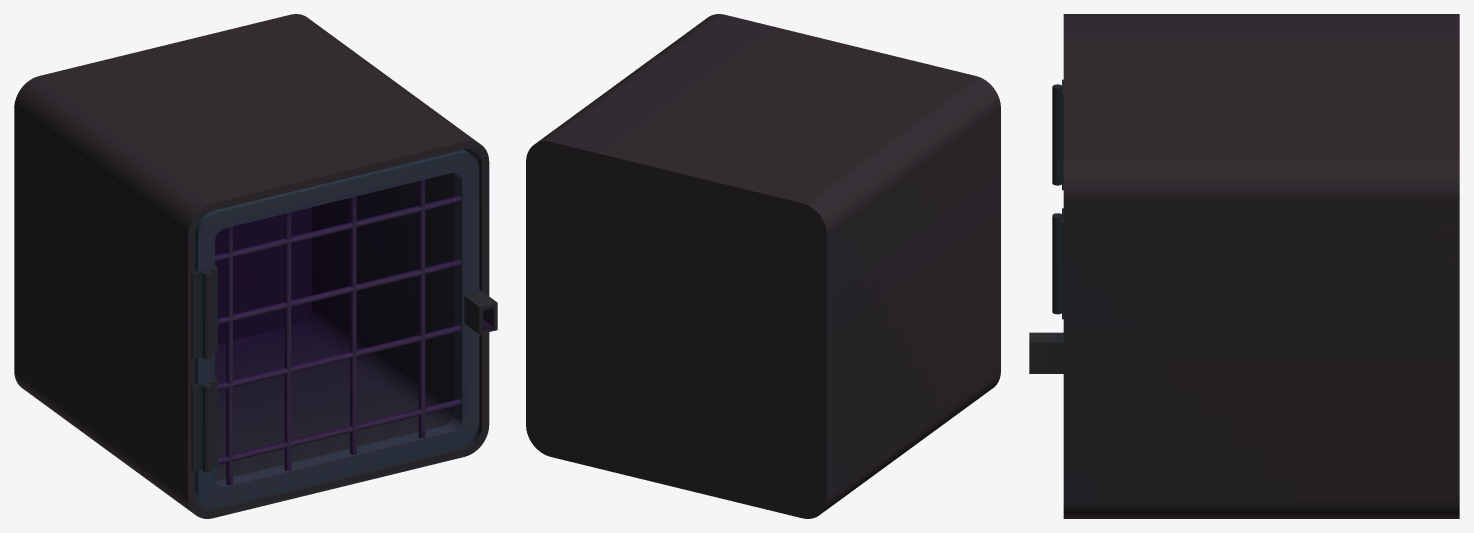
3 renders of one model, left to right at view 1: azimuth 30°, elevation 25°; view 2: azimuth 150°, elevation 25°; view 3: azimuth 270°, elevation 25°, orthographic. The views are drawn at different scales.
Parts seen in each view (by area): view 1: outer, rim, grille_frame, hinge_leaf.001, hinge_leaf, catch; view 2: outer; view 3: outer, catch, hinge_leaf.001, hinge_leaf.
Boxes of the visible parts, x1,y1,x2,y2 form: outer: (14,14,489,518); rim: (195,149,479,507); grille_frame: (211,168,466,491); hinge_leaf.001: (191,266,217,359); hinge_leaf: (191,379,217,471); catch: (464,290,497,334); outer: (526,14,1000,518); outer: (1063,14,1459,518); catch: (1029,332,1063,373); hinge_leaf.001: (1052,79,1063,190); hinge_leaf: (1052,208,1063,319).
Bounding box in the file's own units: 0.4602 × 0.4602 × 0.5001.
